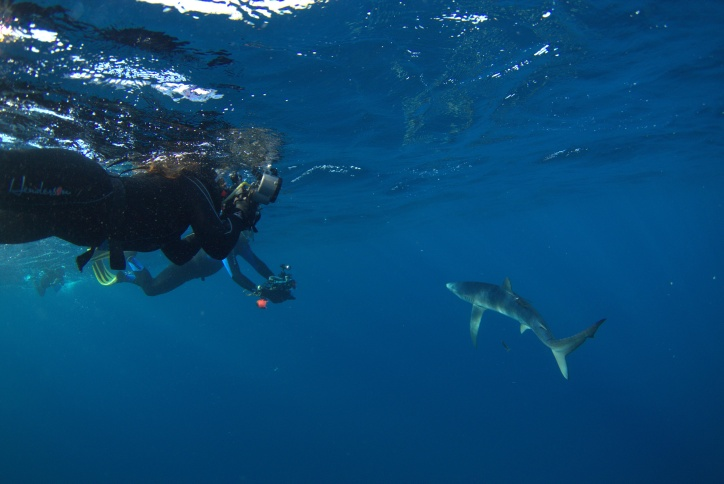Azul: (425, 265, 620, 394)
